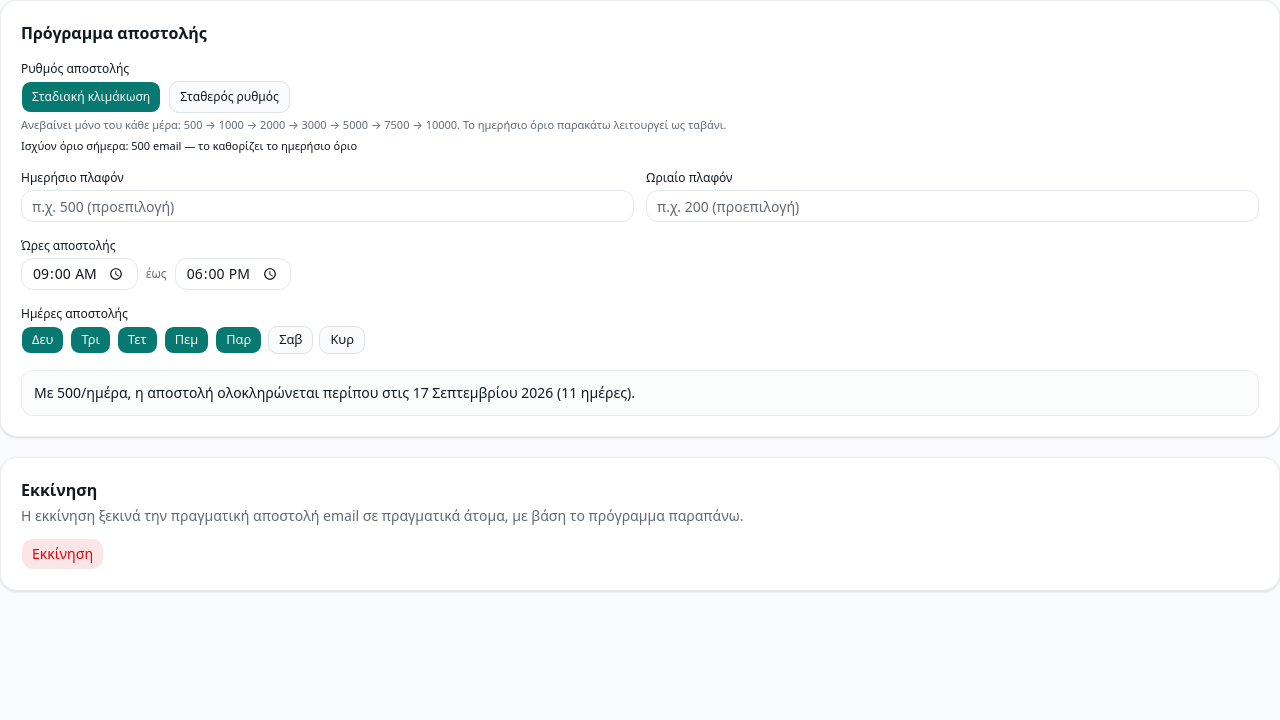
it: StepSchedule › renders a translated explanation when the server refuses the launch (empty_subject)
The width and height of the screenshot is (1280, 720).
Click the button "Εκκίνηση".
click(62, 554)  # box [21, 538, 104, 570]
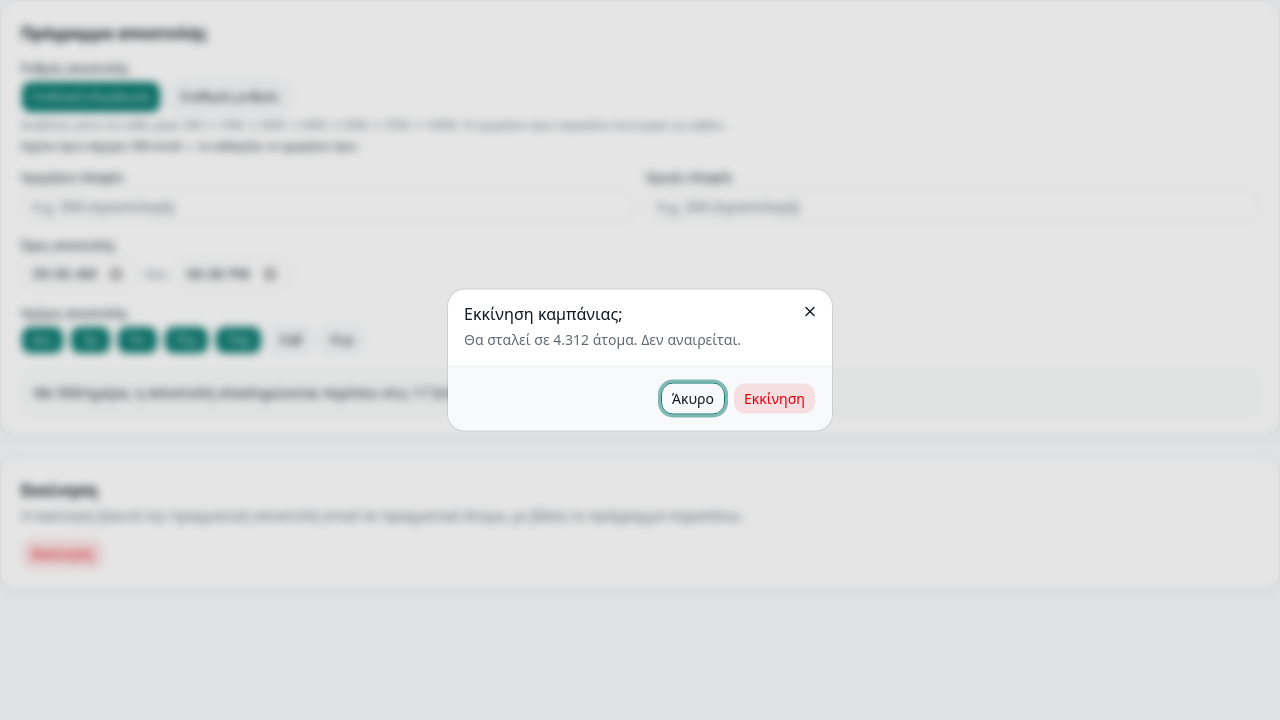
Click the button "Εκκίνηση".
click(774, 398)  # box [733, 382, 816, 414]
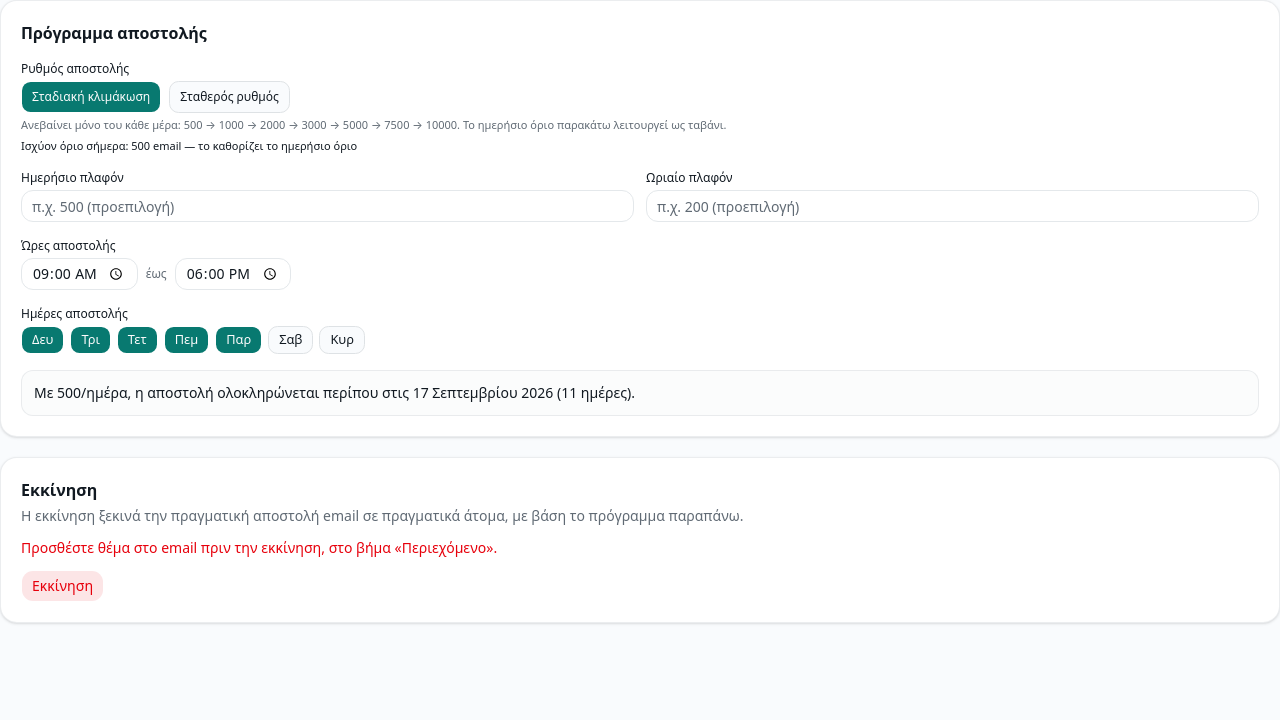
Result: the text "Προσθέστε θέμα στο email πριν την εκκίνηση, στο βήμα «Περιεχόμενο»." is shown at [21, 538, 497, 557]
